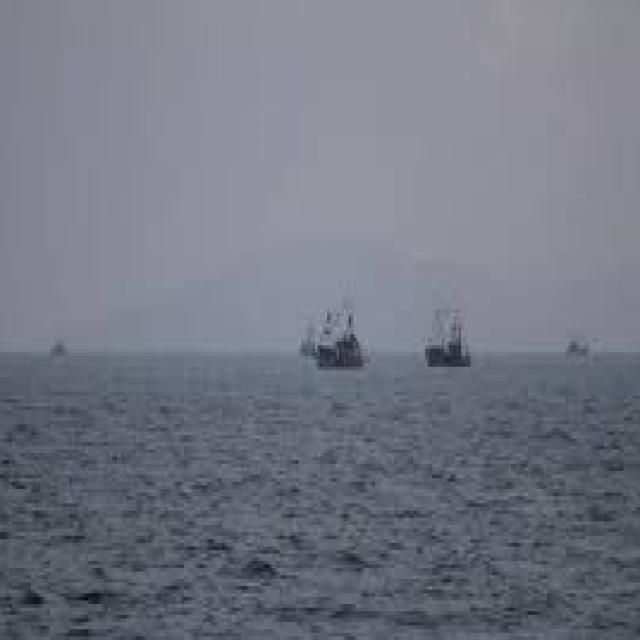fishing boat: (306, 298, 378, 373), (421, 302, 476, 360)
